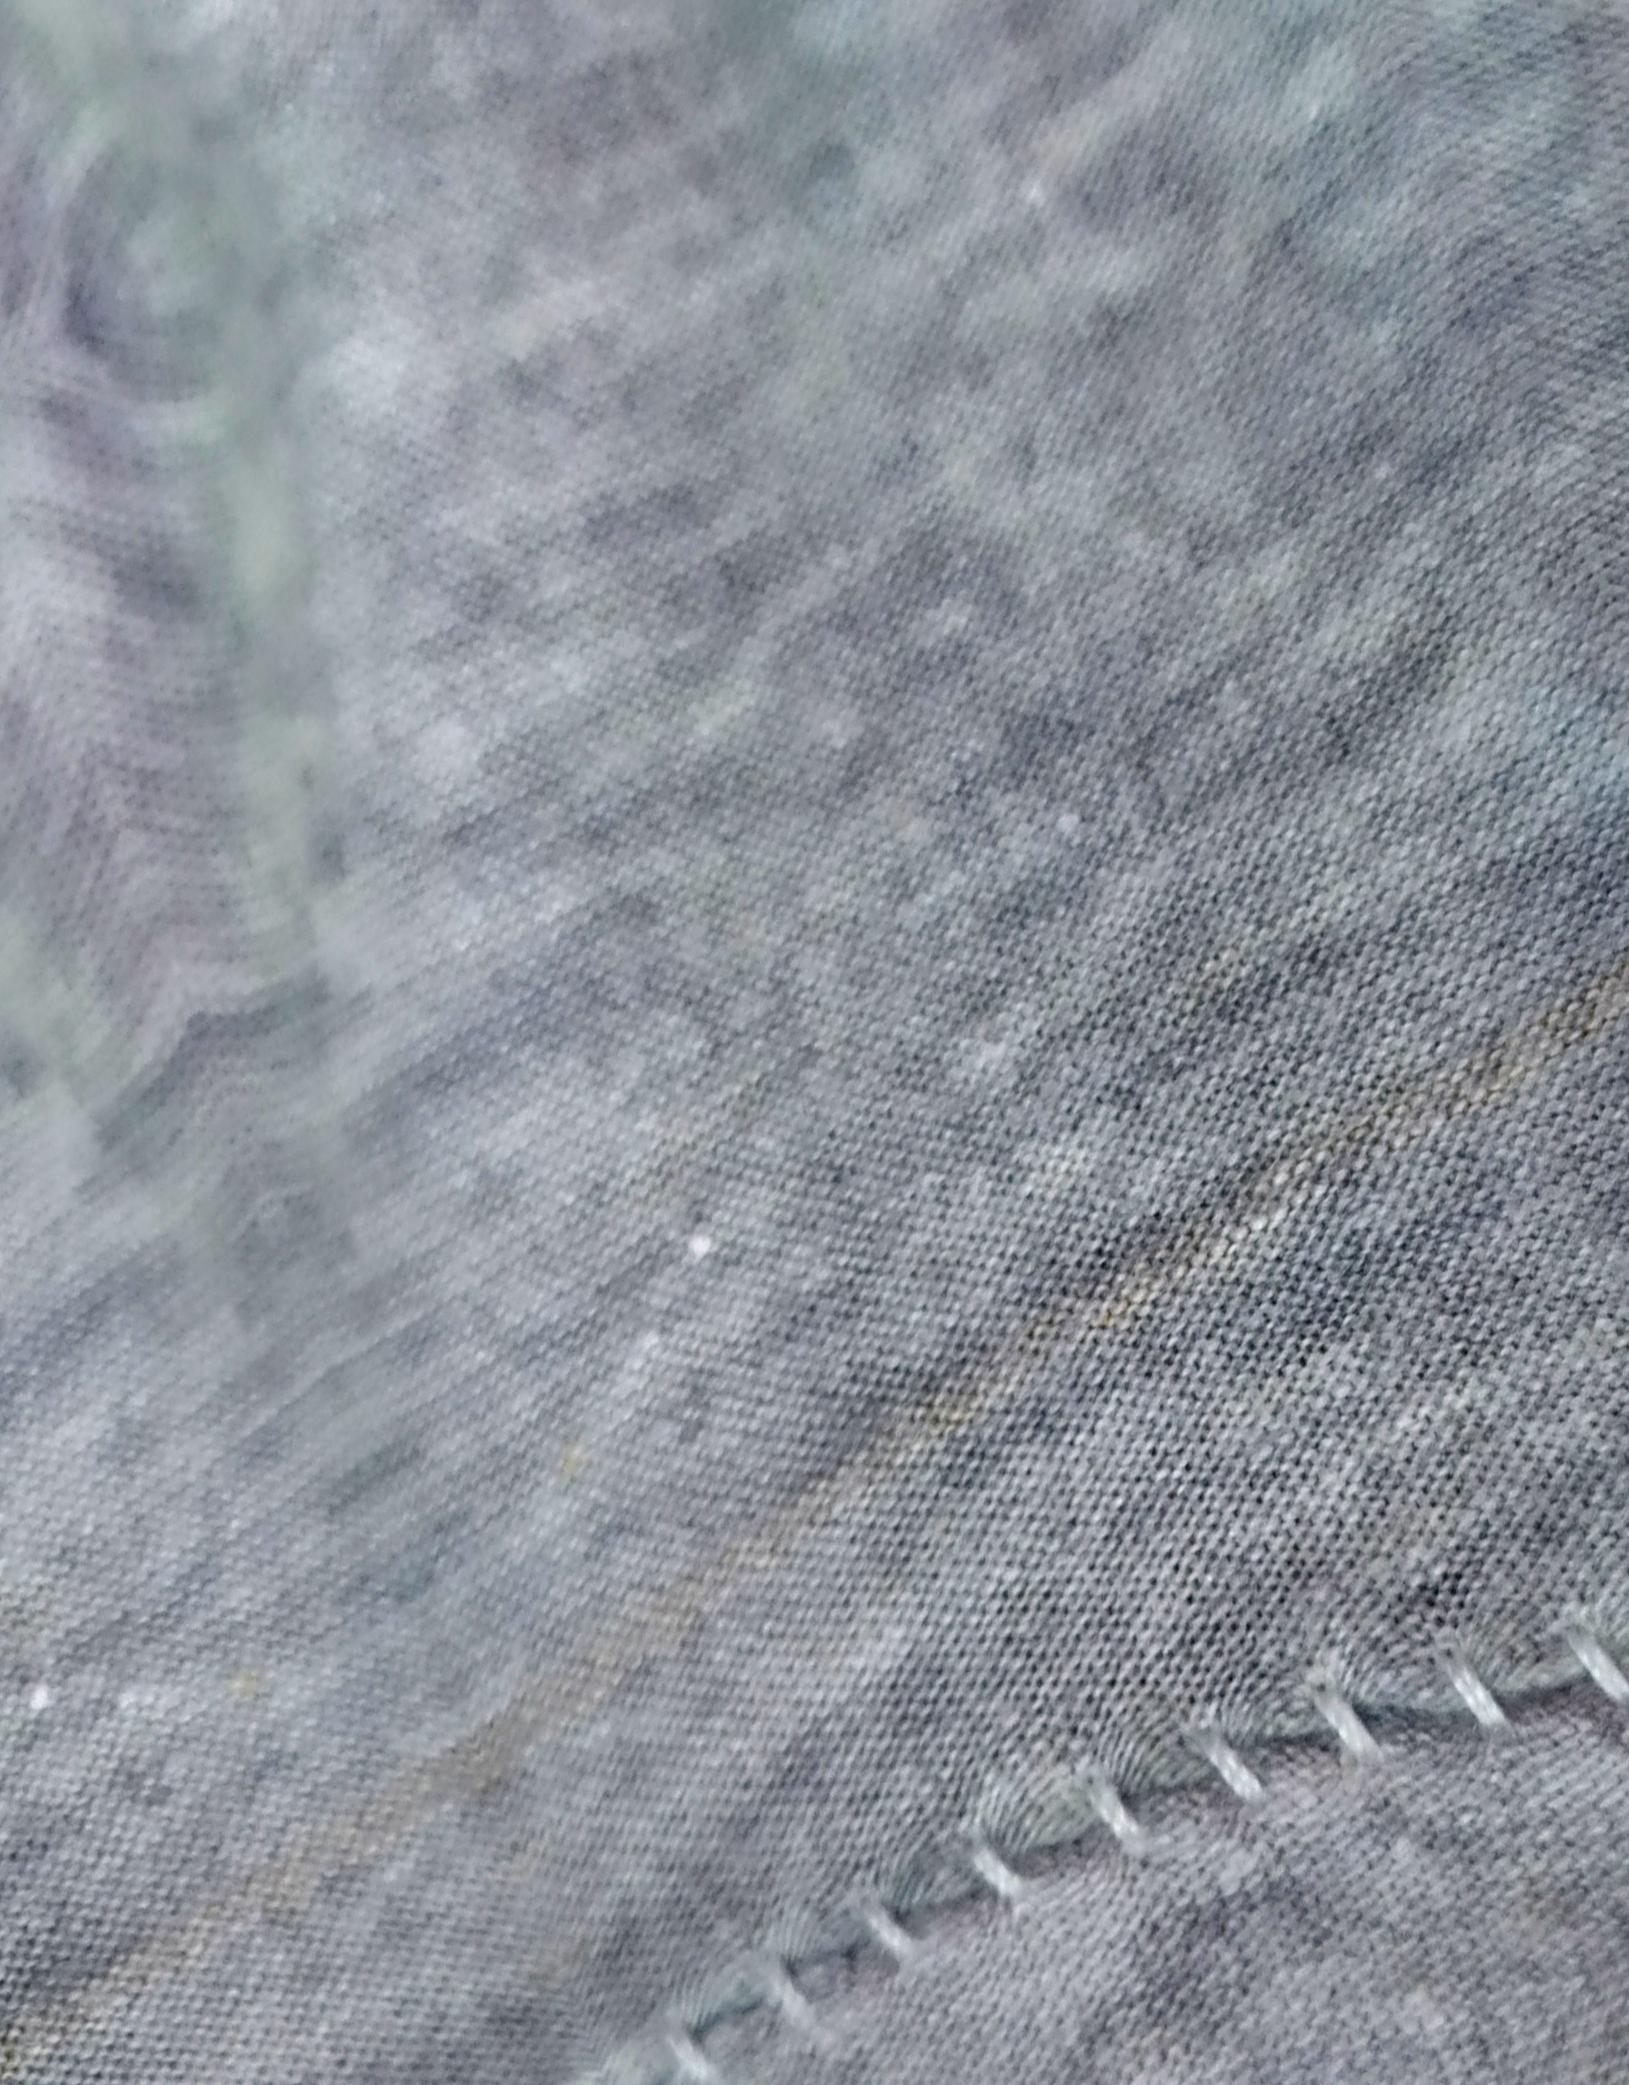slub: (541, 1631, 1621, 2070)
